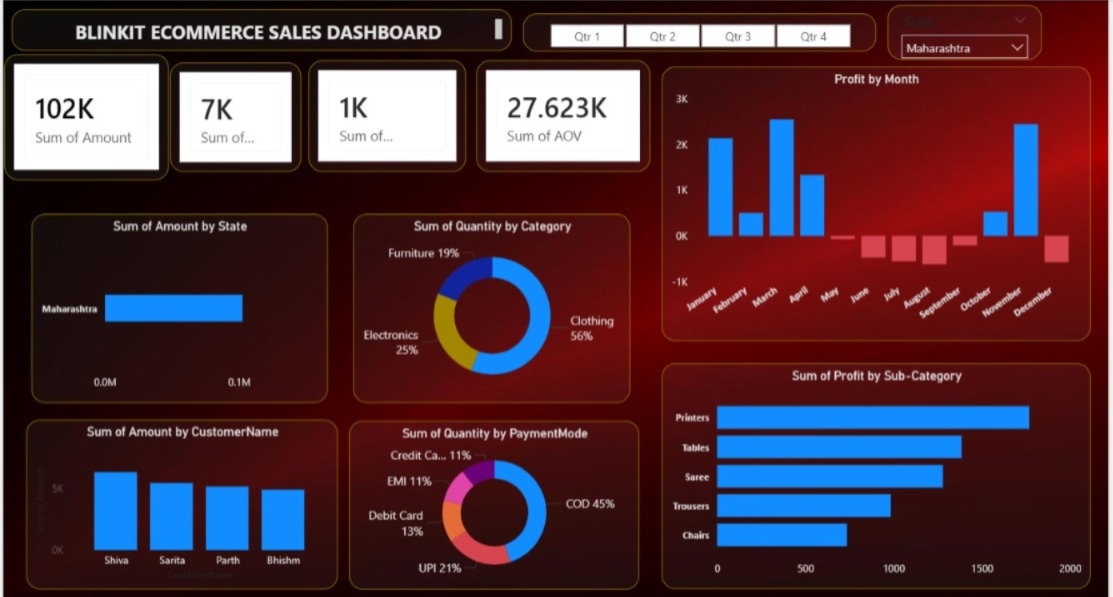

Layout of this report page (visuals, bound fields, positions):
{"tool":"powerbi","page":{"name":"Page 1","canvas":[1280,720],"ordinal":0},"visuals":[{"type":"textbox","box":[9.6,11,579.1,48],"z":0},{"type":"columnChart","title":"Profit by Month","fields":{"Category":["Orders.Order Date.Variation.Date Hierarchy.Month"],"Y":["Sum(Details.Profit)"]},"box":[763,76.8,496.7,317],"z":1000},{"type":"barChart","fields":{"Category":["Details.Sub-Category"],"Y":["Sum(Details.Profit)"]},"box":[763,419.9,496.7,260.7],"z":2000},{"type":"donutChart","fields":{"Category":["Details.Category"],"Y":["Sum(Details.Quantity)"]},"box":[404.8,247,321.1,218.2],"z":3000},{"type":"donutChart","fields":{"Category":["Details.PaymentMode"],"Y":["Sum(Details.Quantity)"]},"box":[400.7,485.8,336.2,194.9],"z":4000},{"type":"cardVisual","fields":{"Data":["Sum(Details.Amount)"]},"box":[1.4,63.1,190.7,145.5],"z":5000},{"type":"cardVisual","fields":{"Data":["Sum(Details.Quantity)"]},"box":[354,70,182.5,129],"z":6000},{"type":"cardVisual","fields":{"Data":["Sum(Details.Profit)"]},"box":[193.5,72.7,152.3,126.2],"z":7000},{"type":"cardVisual","fields":{"Data":["Sum(Details.AOV)"]},"box":[547.5,70,201.7,129],"z":8000},{"type":"barChart","fields":{"Category":["Orders.State"],"Y":["Sum(Details.Amount)"]},"box":[32.9,247,343.1,218.2],"z":9000},{"type":"columnChart","fields":{"Category":["Orders.CustomerName"],"Y":["Sum(Details.Amount)"]},"box":[26.1,484.4,360.9,196.2],"z":10000},{"type":"slicer","fields":{"Values":["Orders.Order Date.Variation.Date Hierarchy.Quarter"]},"box":[602.4,15.1,408.9,43.9],"z":10001},{"type":"slicer","fields":{"Values":["Orders.State"]},"box":[1023.7,5.5,178.4,63.1],"z":10002}]}

Visuals, with their boxes on the page's 1280x720 design canvas (x1, y1, x2, y2). These are canvas units, not pixel positions in the 1113x597 screenshot, which may show the page scaled, cropped or inside an application window:
textbox: region(10, 11, 589, 59)
"Profit by Month" columnChart: region(763, 77, 1260, 394)
barChart - Details.Sub-Category x Sum(Details.Profit): region(763, 420, 1260, 681)
donutChart - Details.Category x Sum(Details.Quantity): region(405, 247, 726, 465)
donutChart - Details.PaymentMode x Sum(Details.Quantity): region(401, 486, 737, 681)
cardVisual - Sum(Details.Amount): region(1, 63, 192, 209)
cardVisual - Sum(Details.Quantity): region(354, 70, 536, 199)
cardVisual - Sum(Details.Profit): region(194, 73, 346, 199)
cardVisual - Sum(Details.AOV): region(548, 70, 749, 199)
barChart - Orders.State x Sum(Details.Amount): region(33, 247, 376, 465)
columnChart - Orders.CustomerName x Sum(Details.Amount): region(26, 484, 387, 681)
slicer - Orders.Order Date.Variation.Date Hierarchy.Quarter: region(602, 15, 1011, 59)
slicer - Orders.State: region(1024, 6, 1202, 69)
